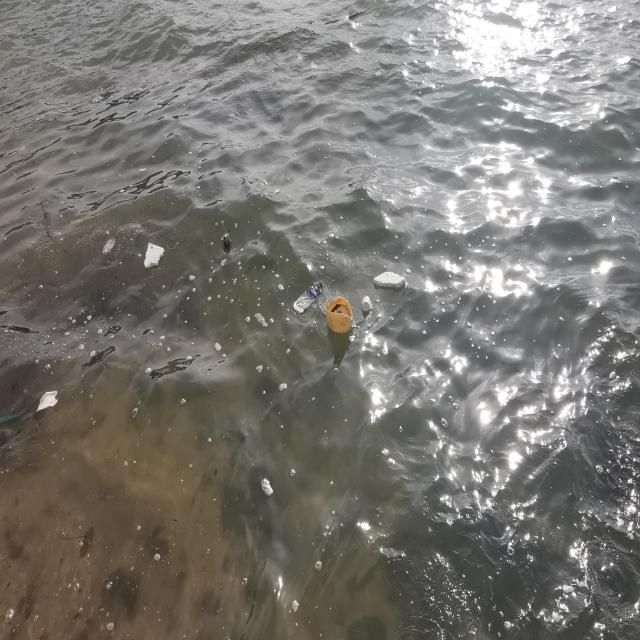can: (222, 232, 230, 250)
foam: (372, 270, 407, 291), (143, 242, 164, 269), (36, 389, 58, 413)
plastic: (293, 281, 323, 314), (359, 295, 372, 311)
plastic bottle: (326, 296, 354, 335)
unknow: (101, 238, 115, 255)
